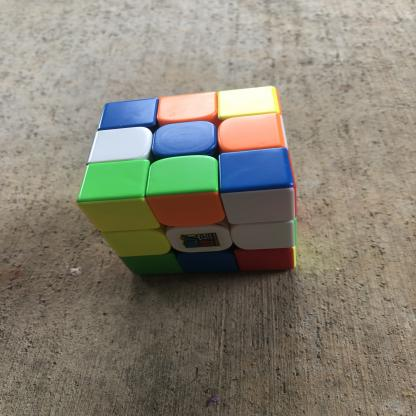UnsolvedCube: (79, 76, 300, 266)
